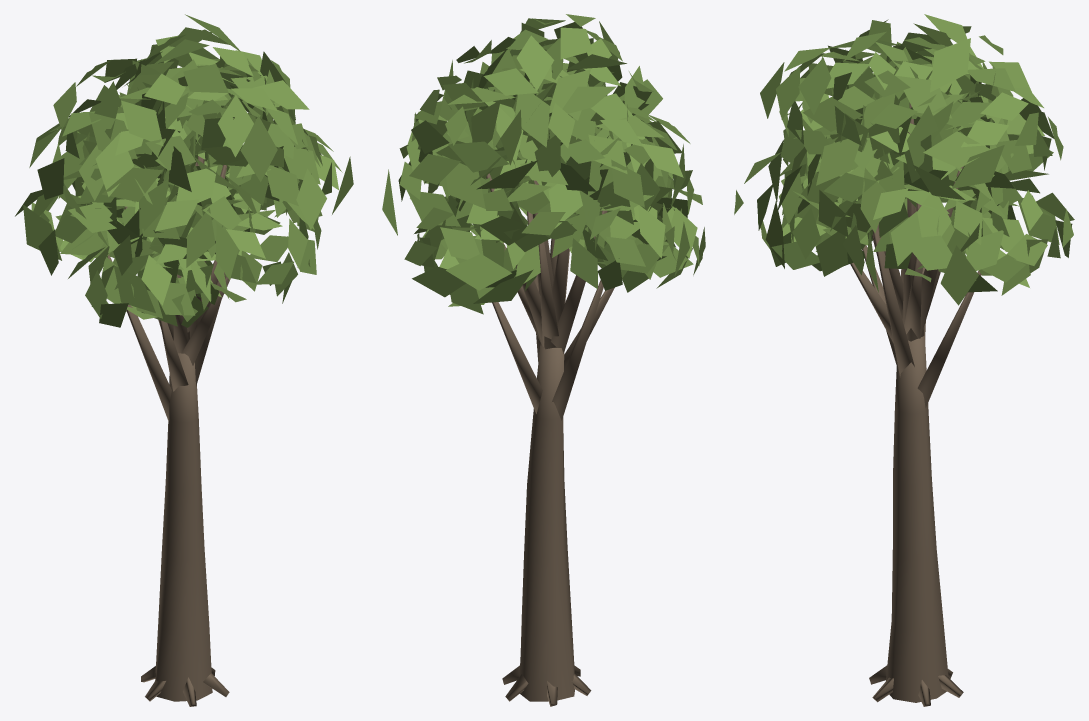
Rendered from oak-tall-lod1.glb.
3 renders of one model, left to right at view 1: azimuth 30°, elevation 25°; view 2: azimuth 150°, elevation 25°; view 3: azimuth 270°, elevation 25°, orthographic. The views are drawn at different scales.
Visible parts, largest first — view 1: tree_oak-tall_LOD1; view 2: tree_oak-tall_LOD1; view 3: tree_oak-tall_LOD1.
Part boxes in pixels (x1=…): tree_oak-tall_LOD1: x1=15, y1=14, x2=353, y2=706; tree_oak-tall_LOD1: x1=382, y1=14, x2=705, y2=706; tree_oak-tall_LOD1: x1=734, y1=14, x2=1074, y2=706.
Size of the model in its own units: 6.95 by 14.55 by 6.74.
